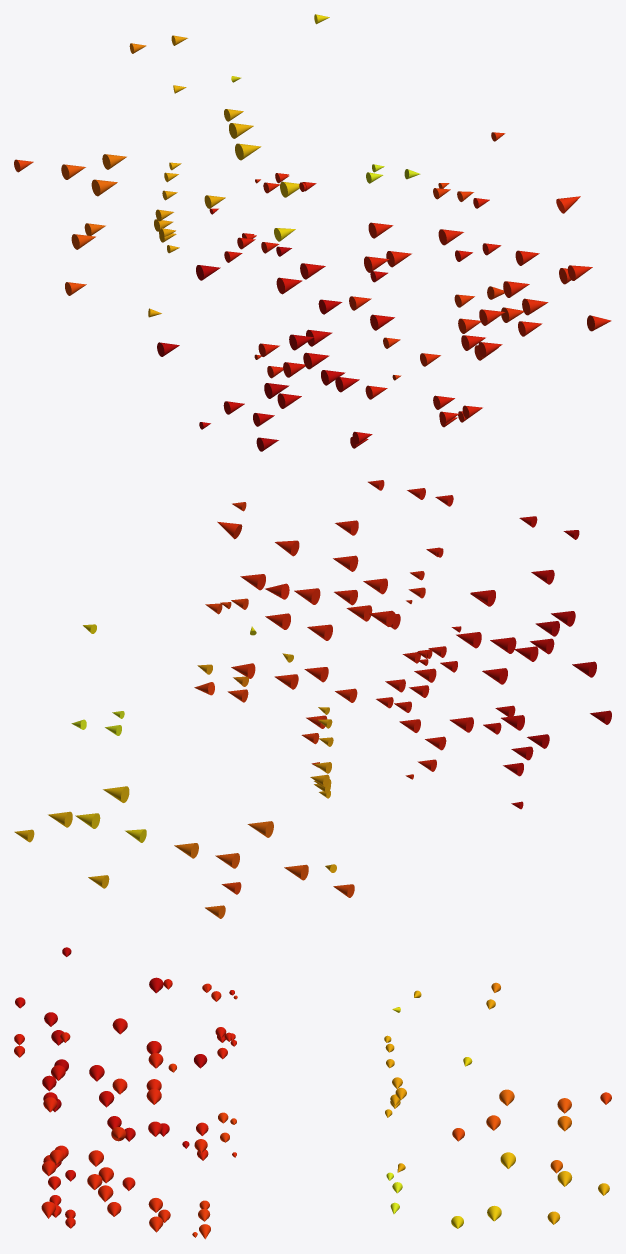
Rendered from LineasCorrienteH2-O2_mh2-1.38_V-1.1.glb.
The picture shows the model from 3 angles, top to bottom: view 1: azimuth 30°, elevation 25°; view 2: azimuth 150°, elevation 25°; view 3: azimuth 270°, elevation 25°; orthographic projection. The views are drawn at different scales.
Size of the model in its own units: 0.000802 by 0.000485 by 0.00123.
2 materials, 2 textured.
